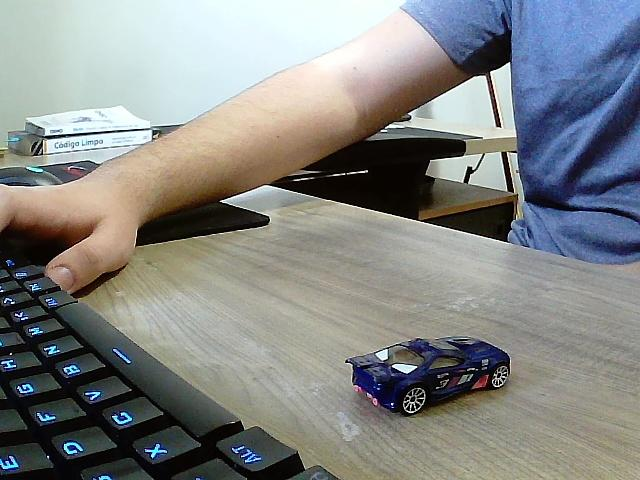Carro: (347, 337, 512, 417)
